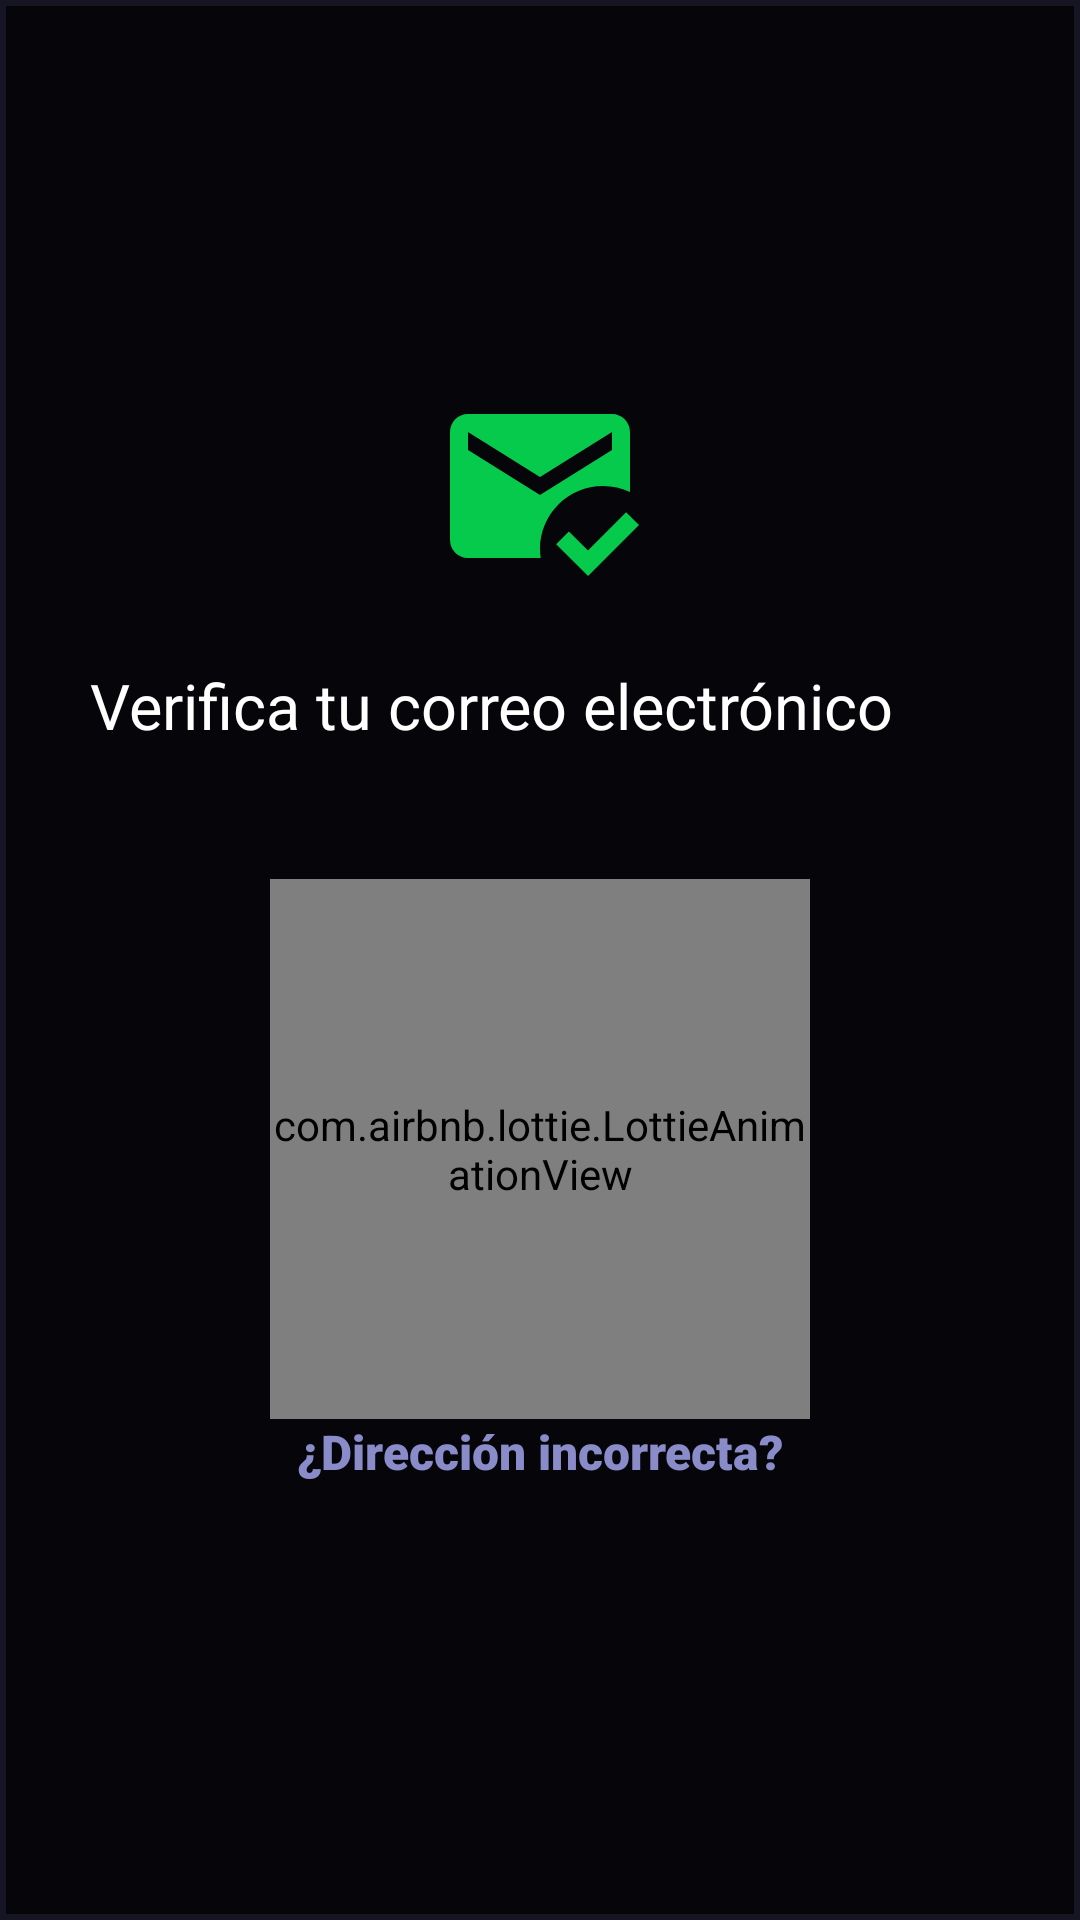

Icon bounding boxes for this 1080×1920 phone screenshot, format (x1,y1,x2,y2):
mark email read: (450,414,639,576)
